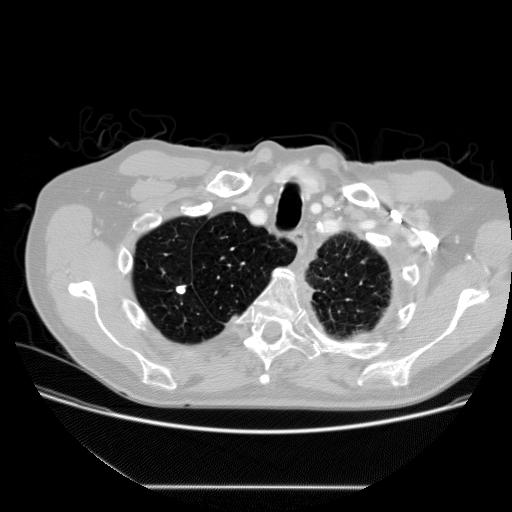nodule: (173, 281, 189, 297)
